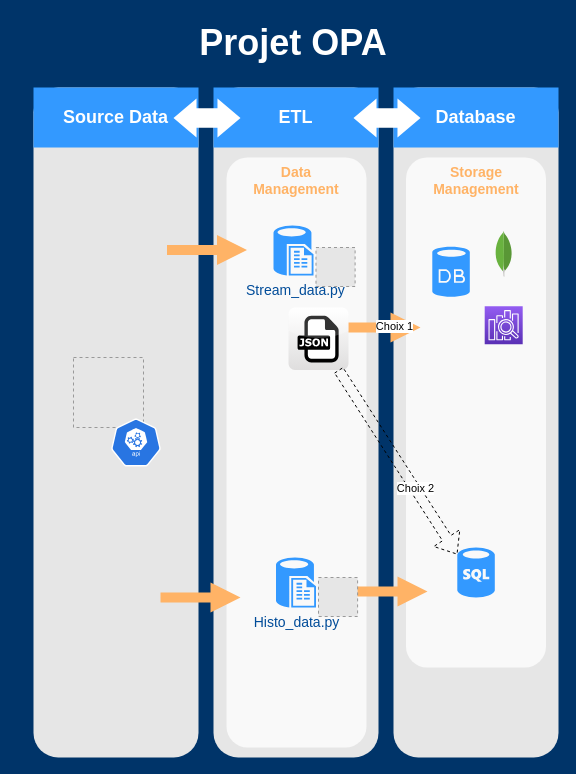
The diagram is 576 pixels wide and 774 high, and some of its shapes have lost their labels. Grey dashed boxes stand in for pictures. The centre of each missing label's shape, as x and y in pixels:
"Database No SQL" belongs at pixel 450 271.
"ElasticSearch" belongs at pixel 503 324.
"MongoDB" belongs at pixel 503 253.
"SQL Database" belongs at pixel 475 572.
